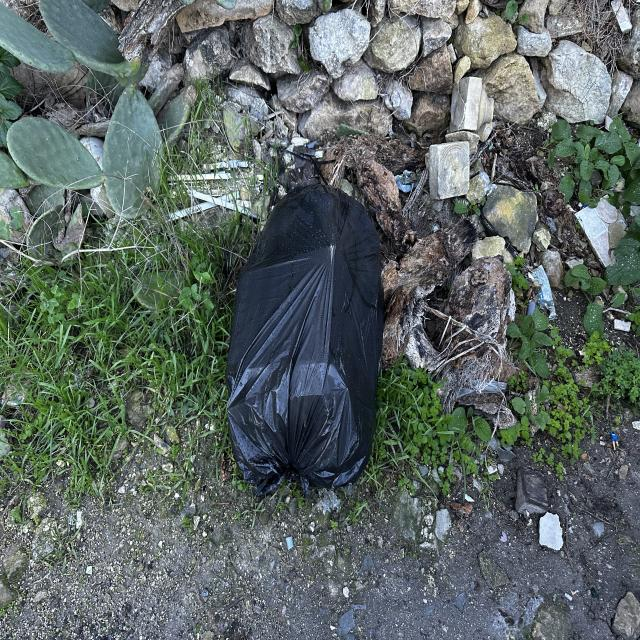Mixed Waste -Black Bags-: (224, 184, 386, 501)
